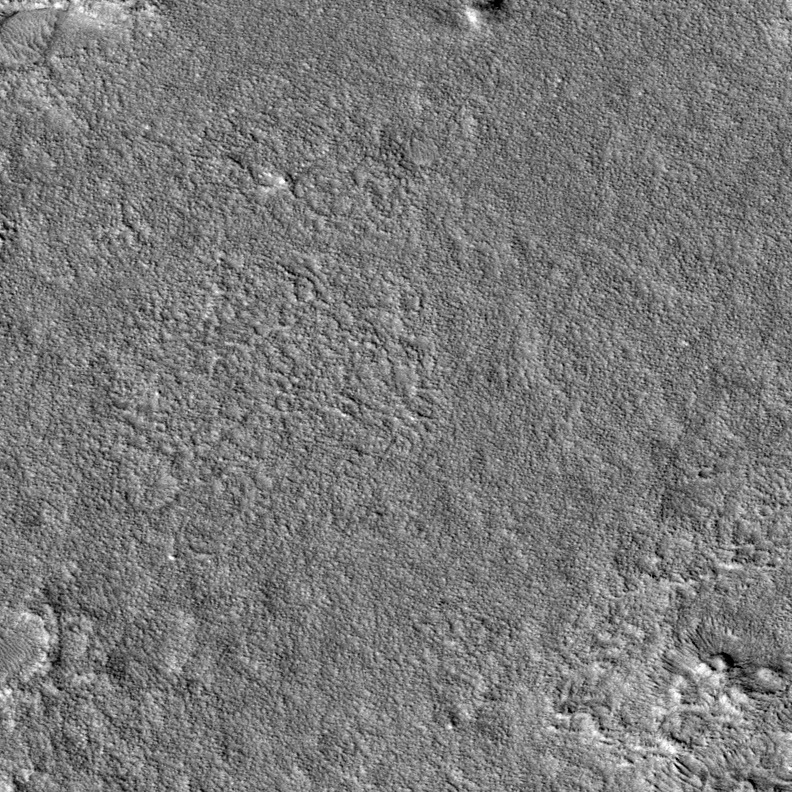dust_devil: (464, 1, 512, 30)
